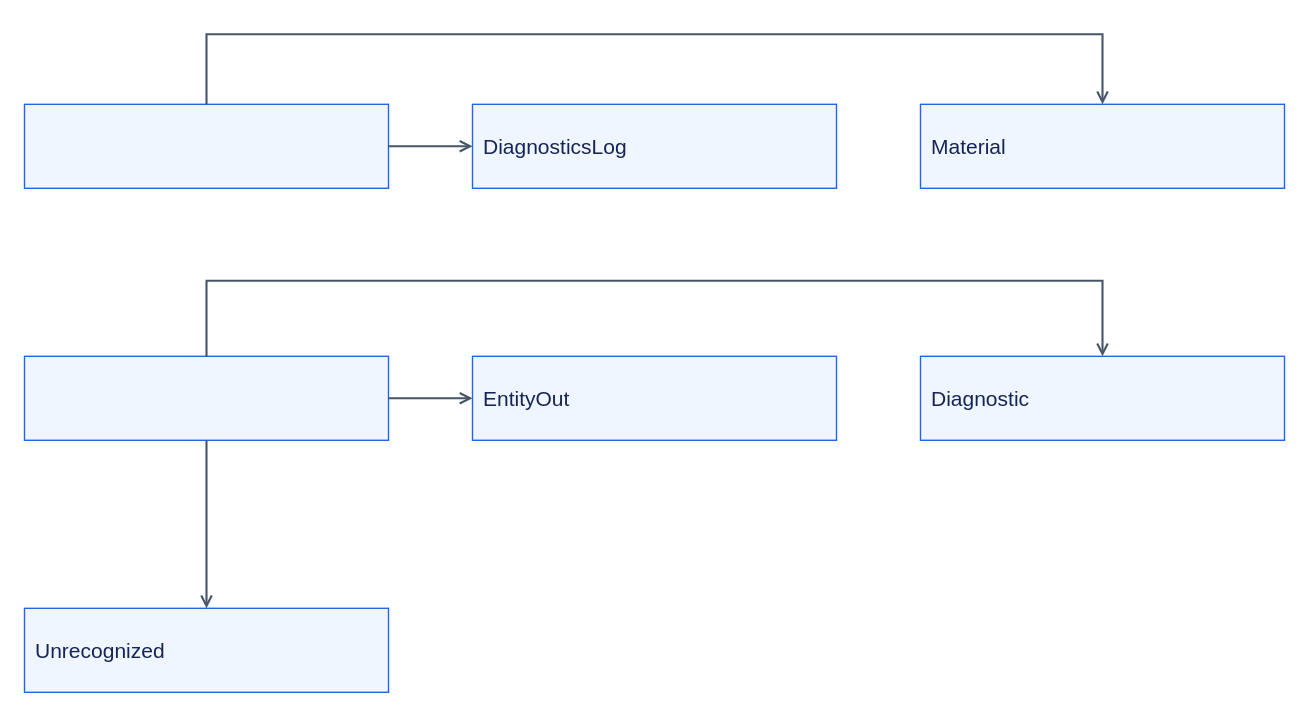
The diagram is 1309 pixels wide and 718 high, and some of its shapes have lost their labels. The shapes that lost their labels are listed below. From the top down, each one's box as (x1, y1, x2, y2) in pixels, then its label:
(23, 103, 388, 188): Context
(23, 355, 388, 440): ExtractResult
